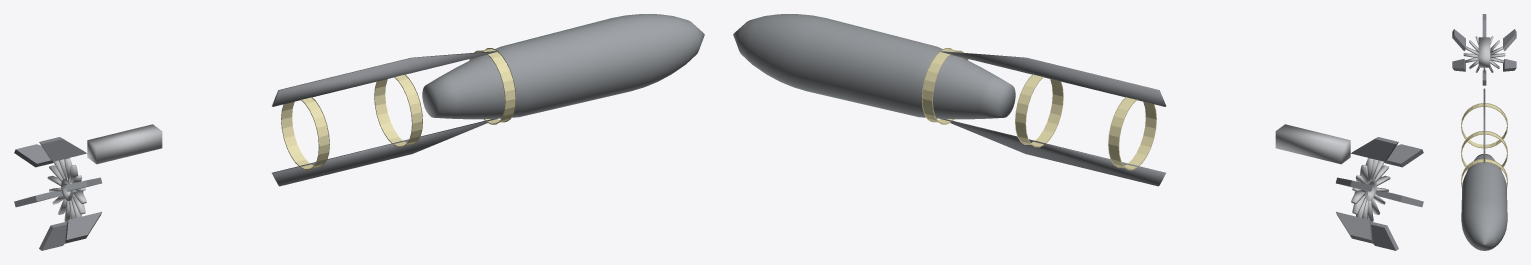
File: FR_TORP_F17_LOD1.fbx
3 renders of one model, left to right at view 1: azimuth 30°, elevation 25°; view 2: azimuth 150°, elevation 25°; view 3: azimuth 270°, elevation 25°, orthographic. The views are drawn at different scales.
Visible parts, largest first — view 1: WPN_FR_TORP_F17_LOD1_Body, WPN_FR_TORP_F17_LOD1_Detail, WPN_FR_TORP_F17_LOD1_Marking, WPN_FR_TORP_F17_LOD1_Fins, WPN_FR_TORP_F17_LOD1_Propulsor; view 2: WPN_FR_TORP_F17_LOD1_Body, WPN_FR_TORP_F17_LOD1_Detail, WPN_FR_TORP_F17_LOD1_Marking, WPN_FR_TORP_F17_LOD1_Fins, WPN_FR_TORP_F17_LOD1_Propulsor; view 3: WPN_FR_TORP_F17_LOD1_Body, WPN_FR_TORP_F17_LOD1_Marking, WPN_FR_TORP_F17_LOD1_Fins, WPN_FR_TORP_F17_LOD1_Detail, WPN_FR_TORP_F17_LOD1_Propulsor.
Boxes of the visible parts, x1=… form: WPN_FR_TORP_F17_LOD1_Body: x1=422, y1=14, x2=704, y2=119; WPN_FR_TORP_F17_LOD1_Detail: x1=87, y1=51, x2=498, y2=186; WPN_FR_TORP_F17_LOD1_Marking: x1=281, y1=48, x2=515, y2=170; WPN_FR_TORP_F17_LOD1_Fins: x1=14, y1=137, x2=101, y2=250; WPN_FR_TORP_F17_LOD1_Propulsor: x1=47, y1=158, x2=86, y2=221; WPN_FR_TORP_F17_LOD1_Body: x1=733, y1=14, x2=1015, y2=119; WPN_FR_TORP_F17_LOD1_Detail: x1=939, y1=51, x2=1350, y2=186; WPN_FR_TORP_F17_LOD1_Marking: x1=922, y1=48, x2=1156, y2=170; WPN_FR_TORP_F17_LOD1_Fins: x1=1336, y1=137, x2=1423, y2=250; WPN_FR_TORP_F17_LOD1_Propulsor: x1=1351, y1=158, x2=1390, y2=221; WPN_FR_TORP_F17_LOD1_Body: x1=1461, y1=154, x2=1507, y2=250; WPN_FR_TORP_F17_LOD1_Marking: x1=1461, y1=103, x2=1507, y2=187; WPN_FR_TORP_F17_LOD1_Fins: x1=1452, y1=14, x2=1516, y2=85; WPN_FR_TORP_F17_LOD1_Detail: x1=1478, y1=37, x2=1490, y2=162; WPN_FR_TORP_F17_LOD1_Propulsor: x1=1463, y1=36, x2=1505, y2=74.
Size of the model in its own units: 5.39 by 0.7386 by 0.8282.
